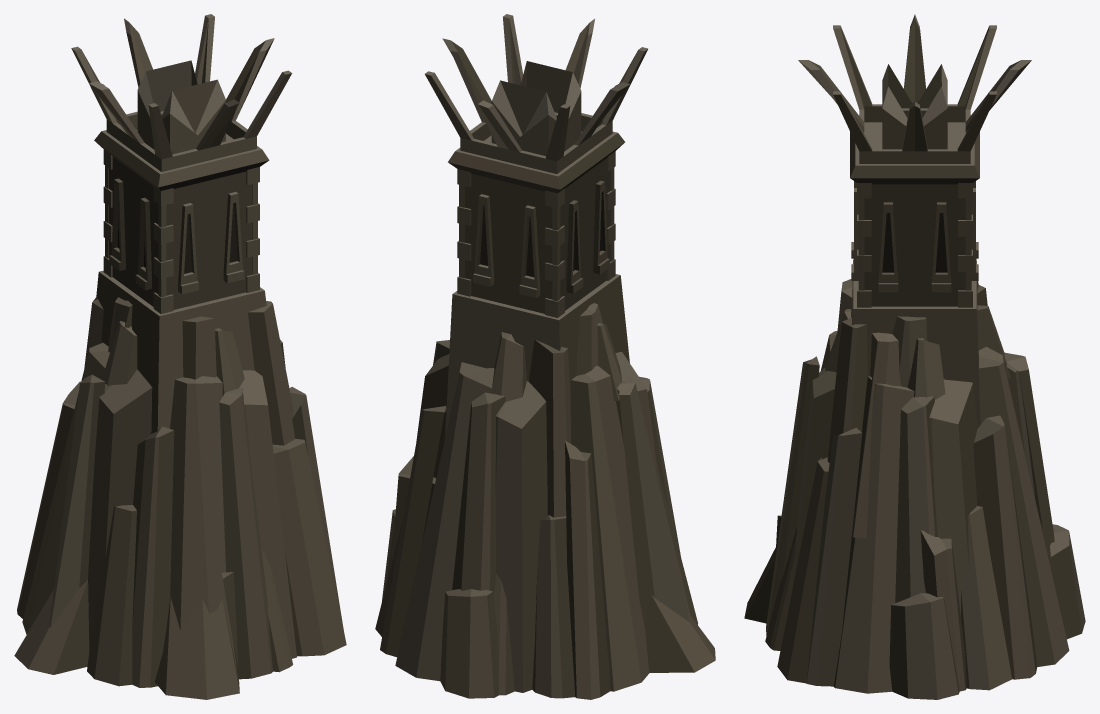
File: TOUR VILLE ;ONSTRE.fbx
3 renders of one model, left to right at view 1: azimuth 30°, elevation 25°; view 2: azimuth 150°, elevation 25°; view 3: azimuth 270°, elevation 25°, orthographic.
Visible parts, largest first — view 1: polySurface1; view 2: polySurface1; view 3: polySurface1.
Part boxes in pixels (x1=…): polySurface1: x1=14, y1=14, x2=346, y2=699; polySurface1: x1=375, y1=14, x2=715, y2=699; polySurface1: x1=744, y1=14, x2=1085, y2=699.
Bounding box in the file's own units: 11.02 × 19.36 × 10.48.
